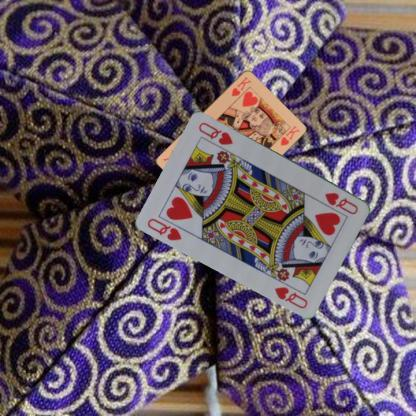Kh: (229, 74, 252, 98)
Qh: (322, 190, 360, 216), (145, 216, 183, 242)
